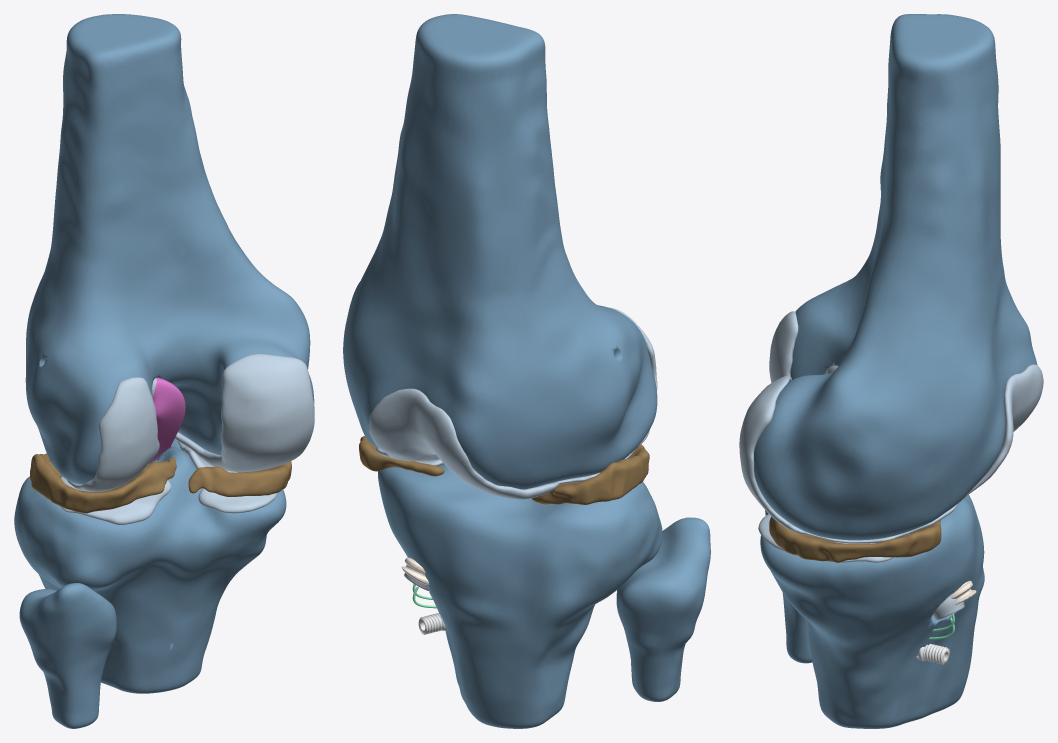
The model's file is acl-btb.glb.
3 renders of one model, left to right at view 1: azimuth 30°, elevation 25°; view 2: azimuth 150°, elevation 25°; view 3: azimuth 270°, elevation 25°, orthographic. The views are drawn at different scales.
Visible parts, largest first — view 1: x Femur, x Tibia, x Femoral cartilage, x Fibula, x Lateral meniscus, x Medial meniscus, x BTB graft #1, x Medial tibial cartilage, x Lateral tibial cartilage; view 2: x Femur, x Tibia, x Fibula, x Femoral cartilage, x Lateral meniscus, x Medial meniscus; view 3: x Femur, x Tibia, x Femoral cartilage, x Medial meniscus, x Fibula, x Medial tibial cartilage, x AlphaVent 4.75 #0.
Part boxes in pixels (x1=…): x Femur: x1=25, y1=14, x2=314, y2=484; x Tibia: x1=14, y1=439, x2=286, y2=693; x Femoral cartilage: x1=66, y1=354, x2=314, y2=491; x Fibula: x1=19, y1=583, x2=116, y2=728; x Lateral meniscus: x1=30, y1=453, x2=176, y2=513; x Medial meniscus: x1=188, y1=461, x2=291, y2=496; x BTB graft #1: x1=150, y1=377, x2=185, y2=462; x Medial tibial cartilage: x1=177, y1=441, x2=277, y2=513; x Lateral tibial cartilage: x1=61, y1=476, x2=171, y2=524; x Femur: x1=343, y1=14, x2=657, y2=489; x Tibia: x1=378, y1=464, x2=662, y2=728; x Fibula: x1=616, y1=517, x2=710, y2=701; x Femoral cartilage: x1=369, y1=307, x2=657, y2=499; x Lateral meniscus: x1=531, y1=444, x2=649, y2=504; x Medial meniscus: x1=359, y1=436, x2=444, y2=476; x Femur: x1=754, y1=14, x2=1037, y2=540; x Tibia: x1=760, y1=494, x2=984, y2=728; x Femoral cartilage: x1=739, y1=311, x2=1043, y2=543; x Medial meniscus: x1=769, y1=516, x2=941, y2=562; x Fibula: x1=765, y1=510, x2=812, y2=663; x Medial tibial cartilage: x1=758, y1=514, x2=908, y2=562; x AlphaVent 4.75 #0: x1=916, y1=644, x2=950, y2=664.
Bounding box in the file's own units: 88.36 × 180 × 73.21.
